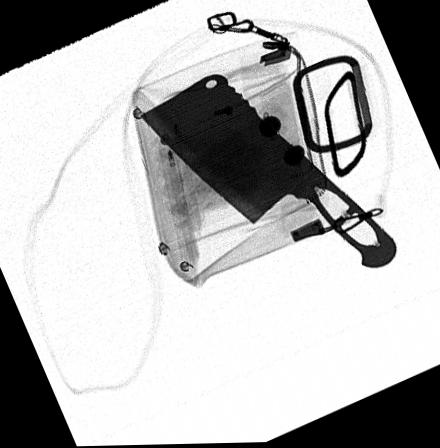Knife: (138, 73, 397, 270)
